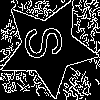S: (23, 22, 73, 62)
